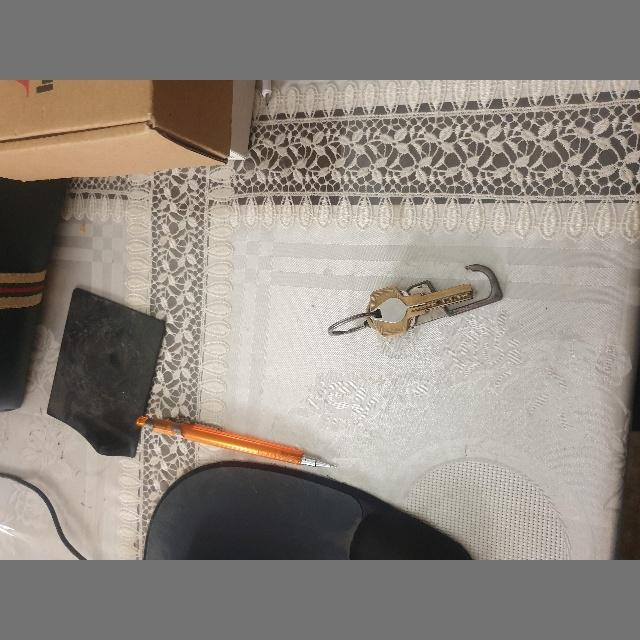Keys: (326, 262, 502, 338)
